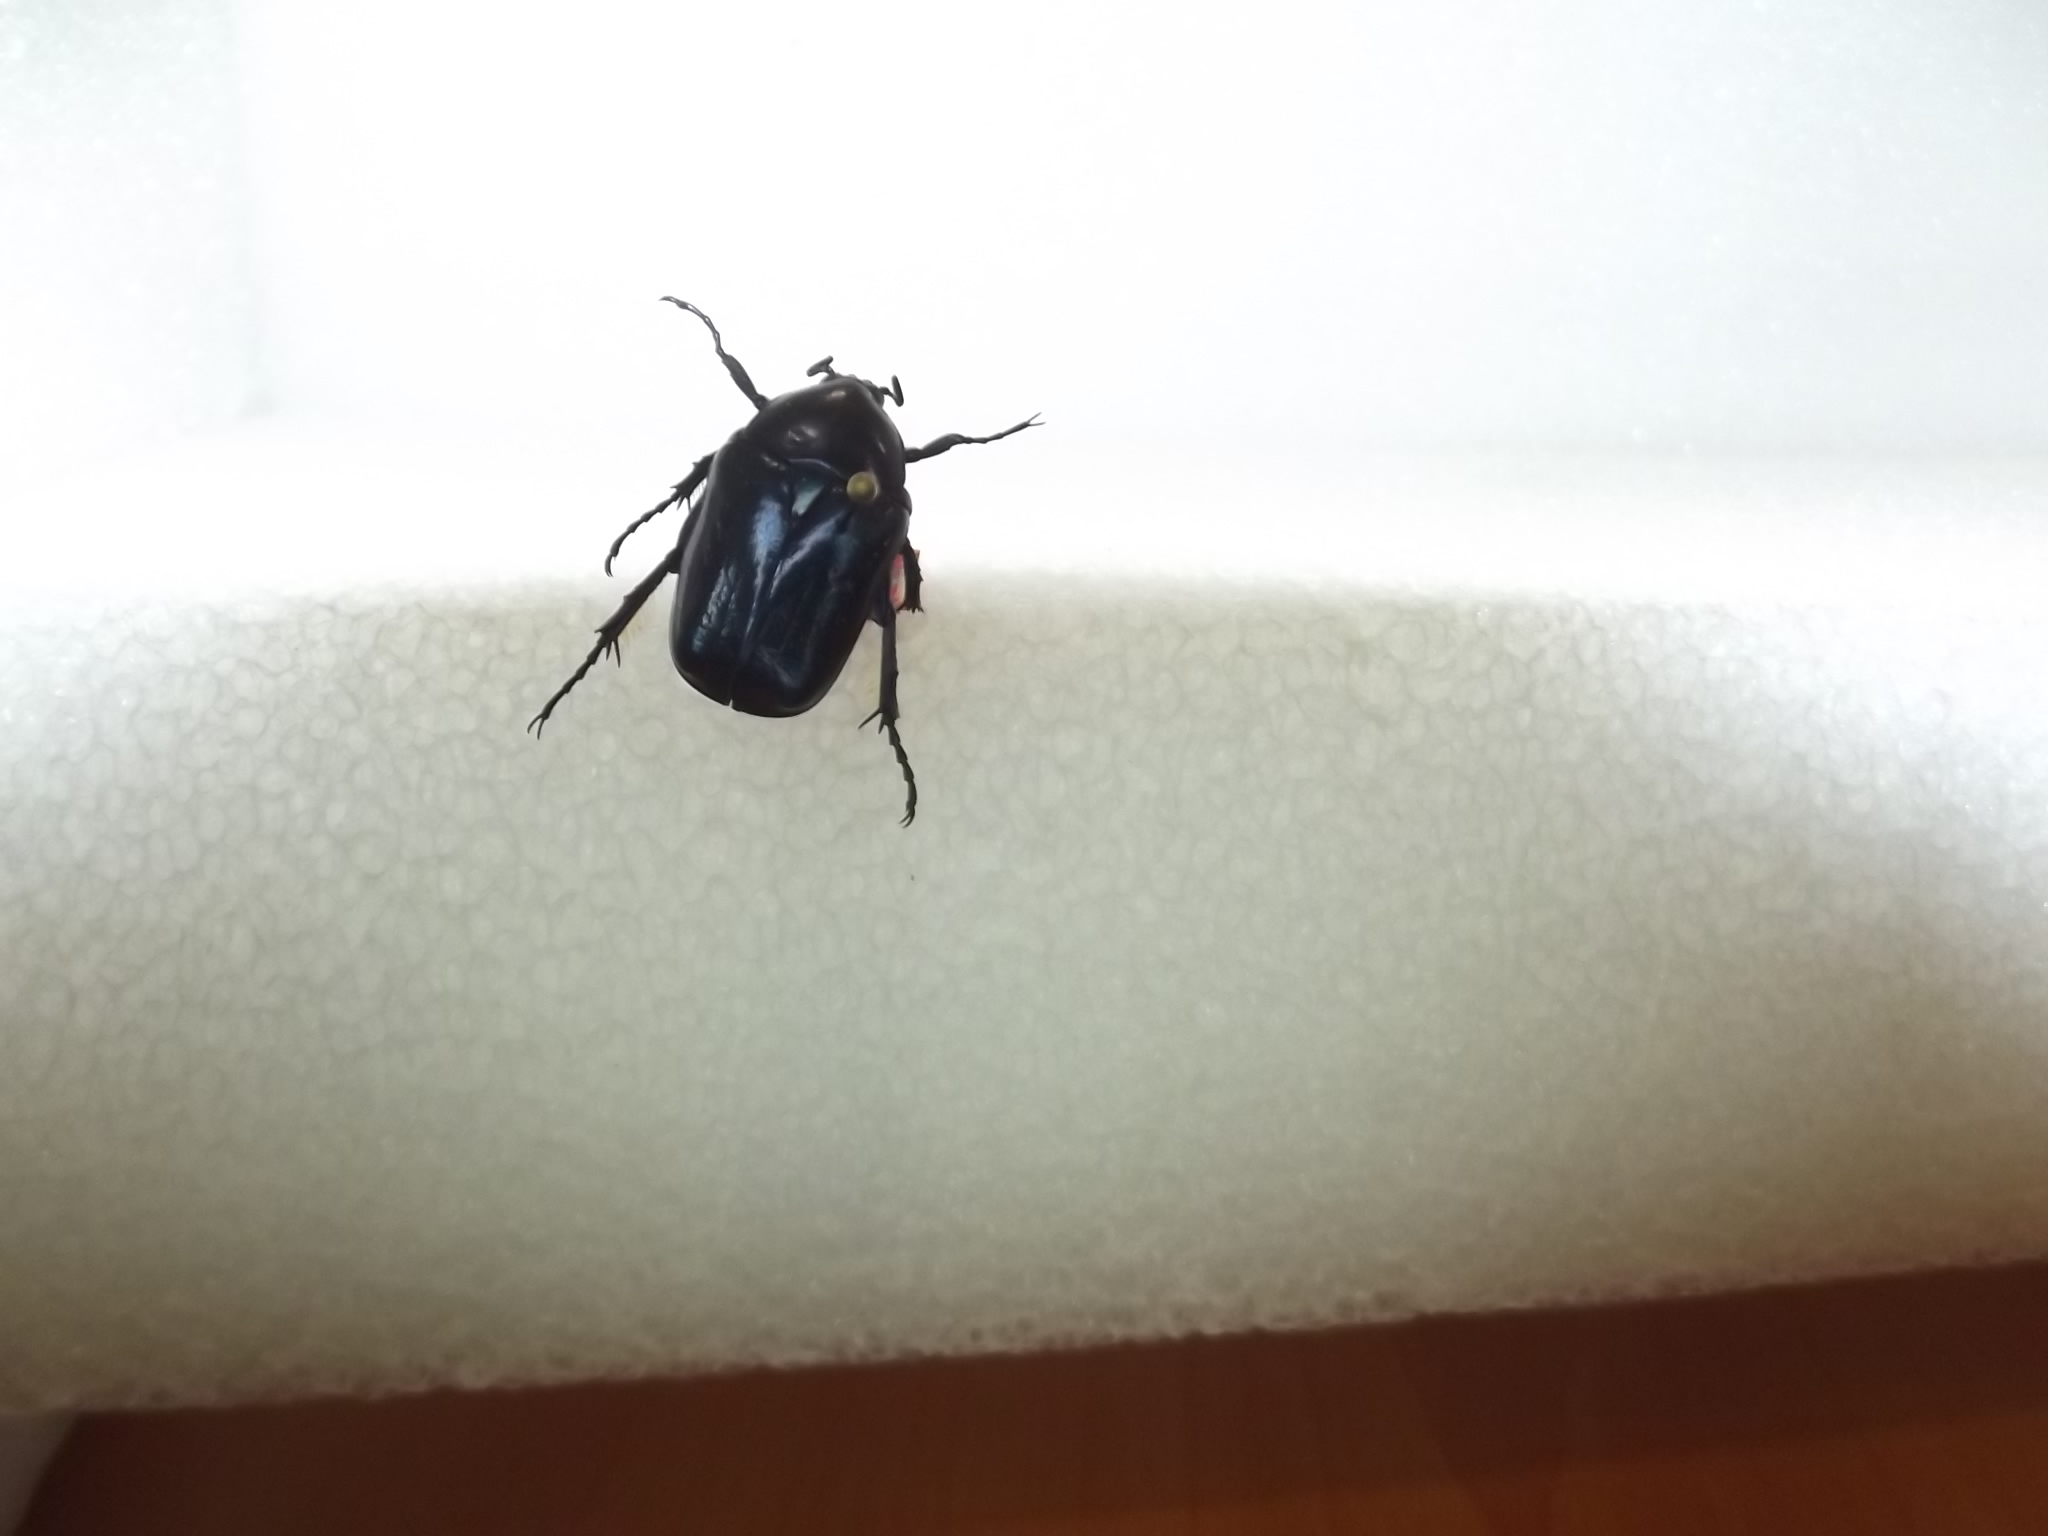Protaetia_besucheti: (534, 219, 1043, 870)
